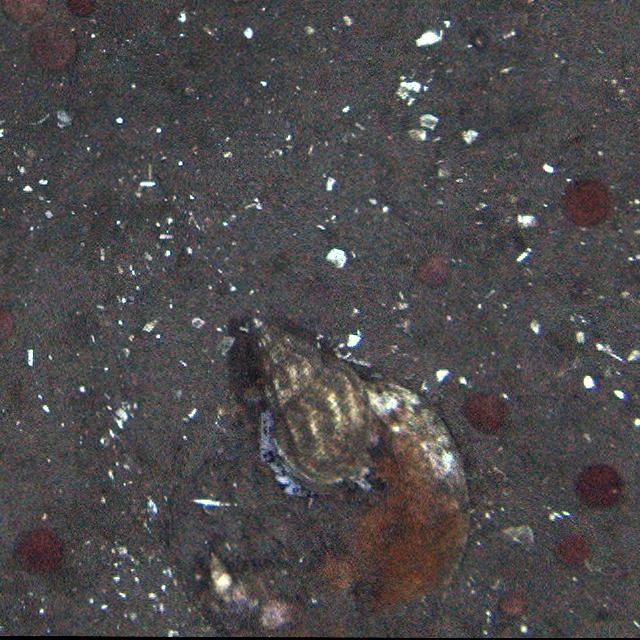whelk: (246, 312, 376, 484)
